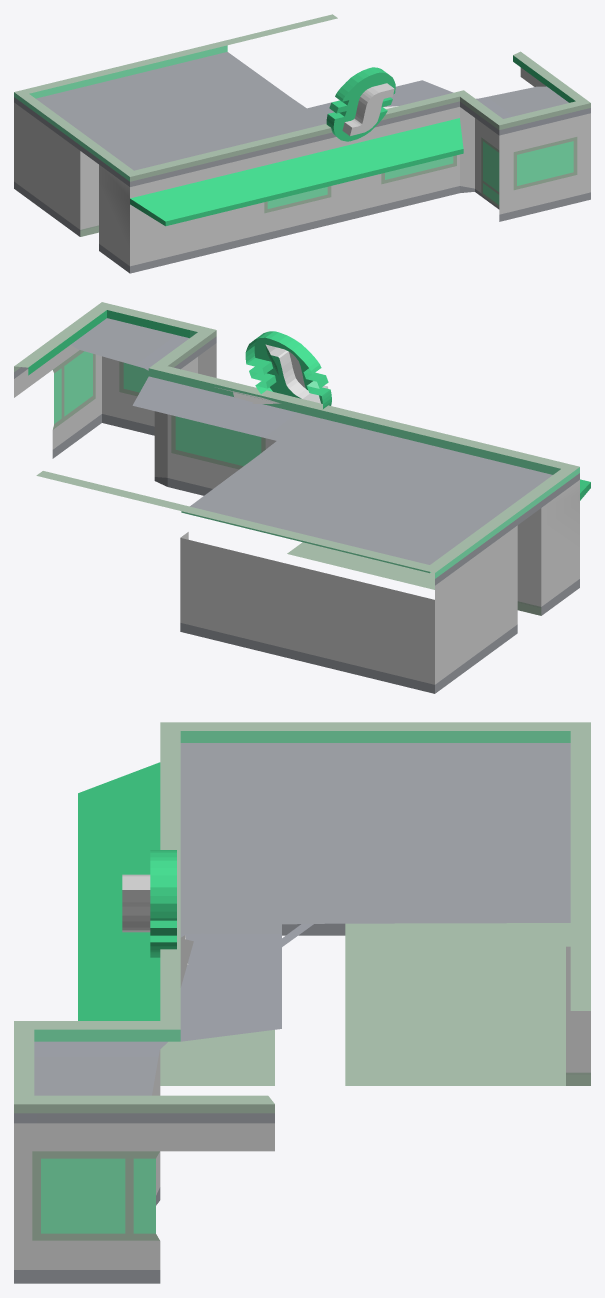
File: Factory1leftside1.fbx
3 views of the same model, one above another, from view 1: azimuth 30°, elevation 25°; view 2: azimuth 150°, elevation 25°; view 3: azimuth 270°, elevation 25° (orthographic). The views are drawn at different scales.
Visible parts, largest first — view 1: Cylinder; view 2: Cylinder; view 3: Cylinder.
Boxes of the visible parts, x1,y1,x2,y2 form: Cylinder: (14, 14, 590, 273); Cylinder: (14, 302, 590, 693); Cylinder: (14, 722, 590, 1283).
Size of the model in its own units: 588 by 190 by 376.
